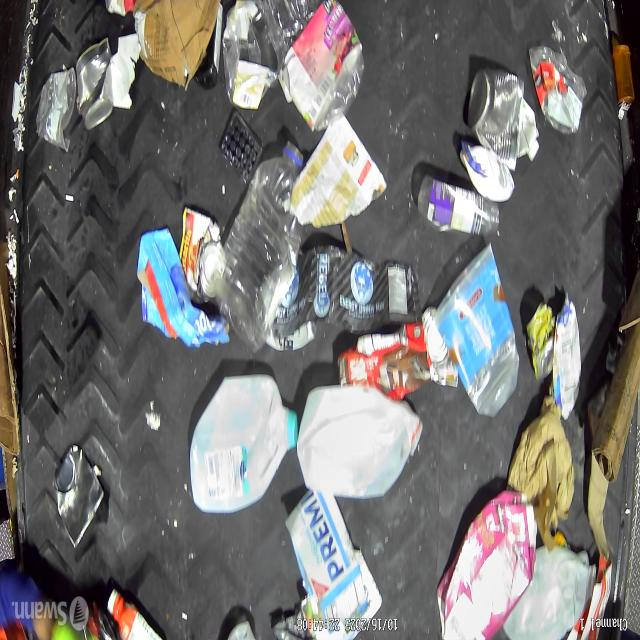can: (467, 68, 524, 172), (55, 448, 105, 548), (179, 206, 224, 304), (74, 39, 114, 133), (525, 299, 555, 381)
milk_jug: (188, 372, 299, 514), (296, 385, 422, 499), (504, 540, 595, 640)
non_white_jug: (437, 491, 536, 640), (554, 294, 580, 419)
plastic_bottle: (213, 142, 308, 348), (262, 0, 366, 133), (530, 46, 586, 133)
